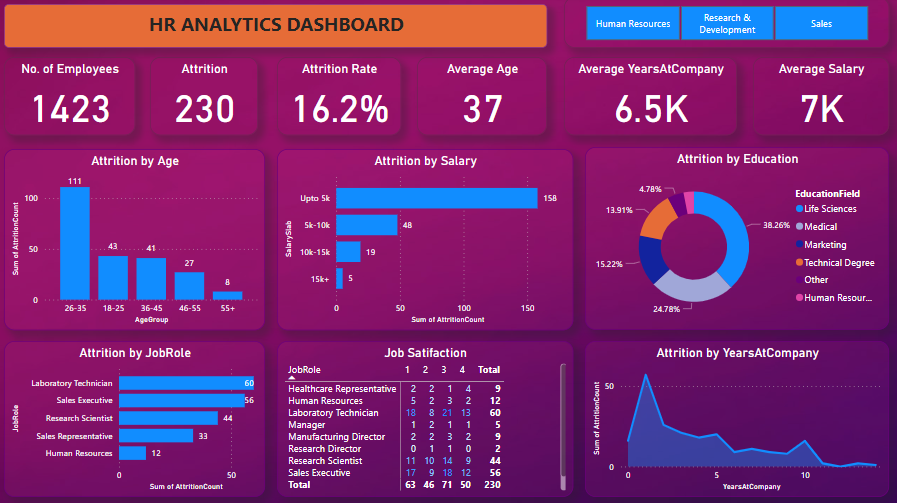

This screenshot's page, from the dashboard's own definition file:
{"tool":"powerbi","page":{"name":"Page 1","canvas":[1280,720],"ordinal":0},"visuals":[{"type":"card","title":"Attrition","fields":{"Values":["Sum(HR_Analytics.AttritionCount)"]},"box":[216.9,85,153.1,110.6],"z":0},{"type":"card","title":"No. of Employees","fields":{"Values":["CountNonNull(HR_Analytics.EmpID)"]},"box":[9.9,85,185.7,110.6],"z":1000},{"type":"card","title":"Attrition Rate","fields":{"Values":["HR_Analytics.AttritionRate"]},"box":[396.9,85,175.7,110.6],"z":2000},{"type":"card","title":"Average Age","fields":{"Values":["Avg(HR_Analytics.Age)"]},"box":[595.3,85,184.3,110.6],"z":3000},{"type":"card","title":"Average YearsAtCompany","fields":{"Values":["Avg(HR_Analytics.MonthlyIncome)"]},"box":[803.6,85,245.2,110.6],"z":4000},{"type":"donutChart","title":"Attrition by Education","fields":{"Category":["HR_Analytics.EducationField"],"Y":["Sum(HR_Analytics.AttritionCount)"]},"box":[833.4,212.6,430.9,259.4],"z":5000},{"type":"columnChart","title":"Attrition by Age","fields":{"Category":["HR_Analytics.AgeGroup"],"Y":["Sum(HR_Analytics.AttritionCount)"]},"box":[9.9,215.4,369.9,256.5],"z":6000},{"type":"pivotTable","title":"Job Satifaction","fields":{"Rows":["HR_Analytics.JobRole"],"Columns":["HR_Analytics.JobSatisfaction"],"Values":["Sum(HR_Analytics.AttritionCount)"]},"box":[396.9,487.6,419.5,221.1],"z":7000},{"type":"clusteredBarChart","title":"Attrition by Salary","fields":{"Category":["HR_Analytics.SalarySlab"],"Y":["Sum(HR_Analytics.AttritionCount)"]},"box":[396.9,215.4,419.5,256.5],"z":8000},{"type":"barChart","title":"Attrition by JobRole","fields":{"Y":["Sum(HR_Analytics.AttritionCount)"],"Category":["HR_Analytics.JobRole"]},"box":[9.9,487.6,369.9,221.1],"z":9000},{"type":"areaChart","title":"Attrition by YearsAtCompany","fields":{"Category":["HR_Analytics.YearsAtCompany"],"Y":["Sum(HR_Analytics.AttritionCount)"]},"box":[833,488,431,221],"z":10000},{"type":"card","title":"Average Salary","fields":{"Values":["Avg(HR_Analytics.MonthlyIncome)"]},"box":[1071.5,85,192.8,110.6],"z":11000},{"type":"slicer","fields":{"Values":["HR_Analytics.Department"]},"box":[803.6,0,460.6,72.3],"z":12000},{"type":"textbox","box":[9.9,9.9,769.6,62.4],"z":13000}]}

Visuals, with their boxes in screenshot pixels (x1, y1, x2, y2), scaled from the page's 1280x720 canvas onto the 897x503 screenshot:
"Attrition" card: Rect(152, 59, 259, 137)
"No. of Employees" card: Rect(7, 59, 137, 137)
"Attrition Rate" card: Rect(278, 59, 401, 137)
"Average Age" card: Rect(417, 59, 546, 137)
"Average YearsAtCompany" card: Rect(563, 59, 735, 137)
"Attrition by Education" donutChart: Rect(584, 149, 886, 330)
"Attrition by Age" columnChart: Rect(7, 150, 266, 330)
"Job Satifaction" pivotTable: Rect(278, 341, 572, 495)
"Attrition by Salary" clusteredBarChart: Rect(278, 150, 572, 330)
"Attrition by JobRole" barChart: Rect(7, 341, 266, 495)
"Attrition by YearsAtCompany" areaChart: Rect(584, 341, 886, 495)
"Average Salary" card: Rect(751, 59, 886, 137)
slicer - HR_Analytics.Department: Rect(563, 0, 886, 51)
textbox: Rect(7, 7, 546, 51)
